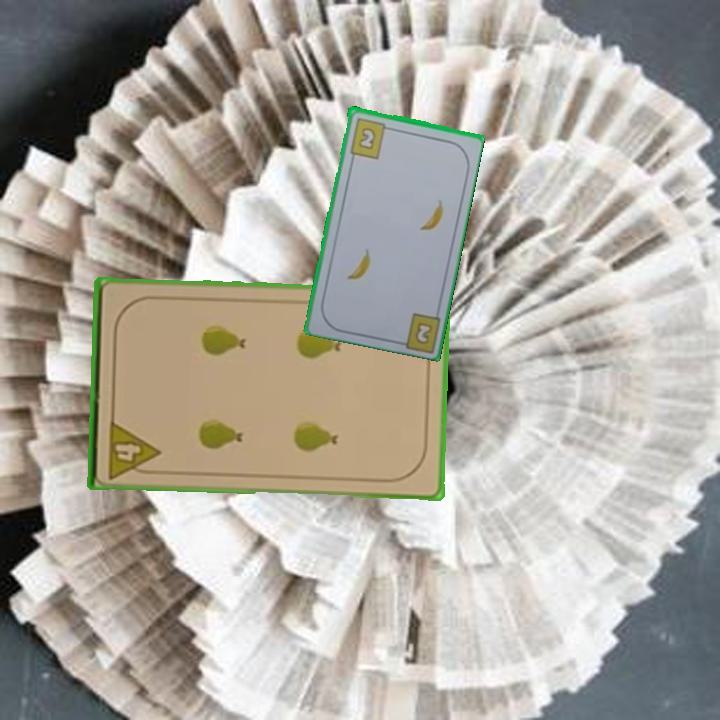2b: (346, 114, 394, 161), (411, 318, 435, 347)
4p: (104, 416, 162, 482)
